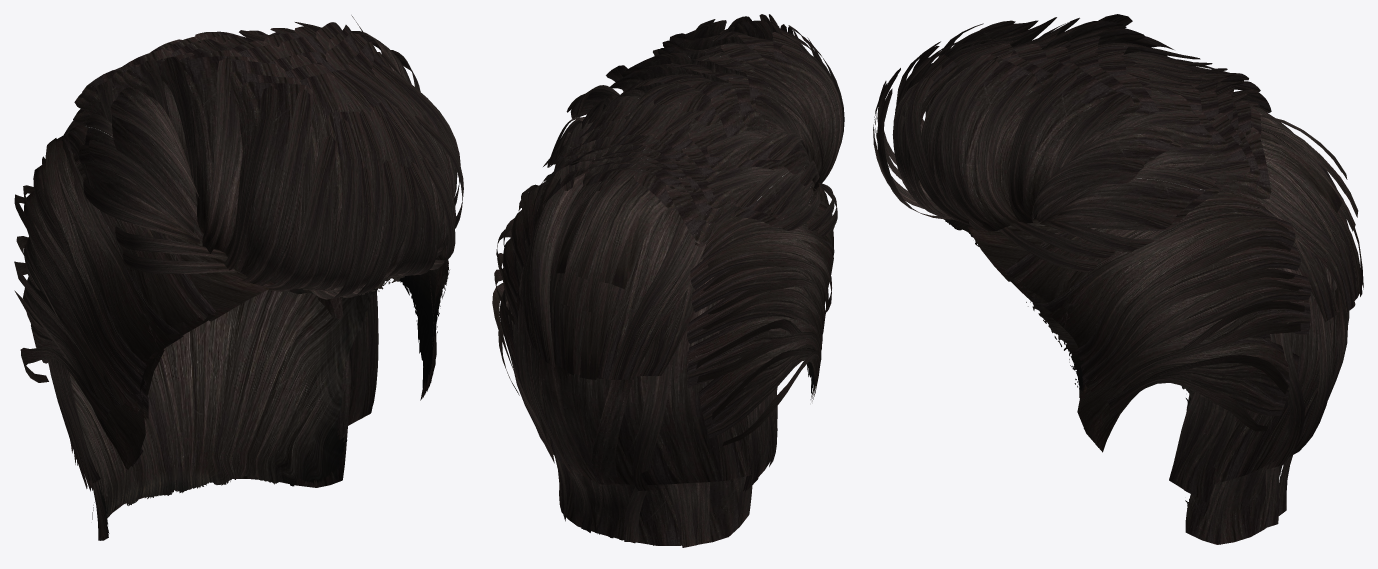
File: Hair1Daz.obj
3 views of the same model, side by side, from view 1: azimuth 30°, elevation 25°; view 2: azimuth 150°, elevation 25°; view 3: azimuth 270°, elevation 25° (orthographic). The views are drawn at different scales.
Parts seen in each view (by area): view 1: Thin, Cap, Top, Sides, Neck, SidesUnder; view 2: Thin, Top, Sides, Neck, TopBack; view 3: Thin, Top, Sides, Neck, TopBack, SidesUnder, Cap.
Boxes of the visible parts, <box> form: Thin: <box>14,15,463,538</box>; Cap: <box>67,251,449,533</box>; Top: <box>73,22,457,288</box>; Sides: <box>23,125,446,469</box>; Neck: <box>48,151,378,540</box>; SidesUnder: <box>122,236,448,413</box>; Thin: <box>492,14,844,547</box>; Top: <box>542,20,835,243</box>; Sides: <box>499,172,833,438</box>; Neck: <box>512,212,777,545</box>; TopBack: <box>521,172,705,379</box>; Thin: <box>873,14,1363,544</box>; Top: <box>906,17,1271,231</box>; Sides: <box>1009,191,1311,452</box>; Neck: <box>1169,242,1349,544</box>; TopBack: <box>1220,99,1359,322</box>; SidesUnder: <box>968,221,1281,395</box>; Cap: <box>943,216,1193,508</box>.
Bounding box in the file's own units: 0.0761 × 0.108 × 0.1016.
